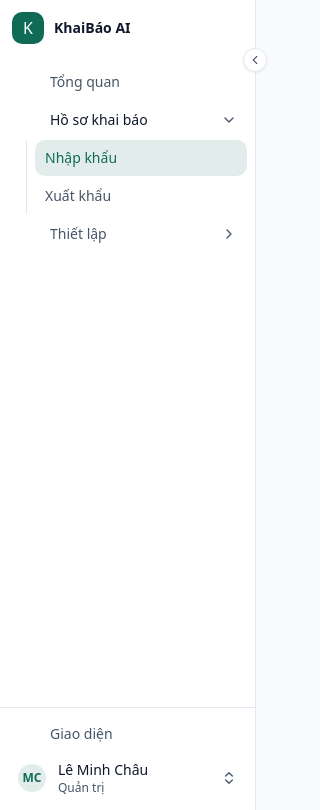
Test: Sidebar › thu gọn: nhãn chỉ còn cho trình đọc màn hình, có tooltip; nút mở rộng đổi nhãn
The image size is (320, 810).
Step 1. Click the button named "Thu gọn menu" → click(255, 60), box x1=243 y1=48 x2=267 y2=72
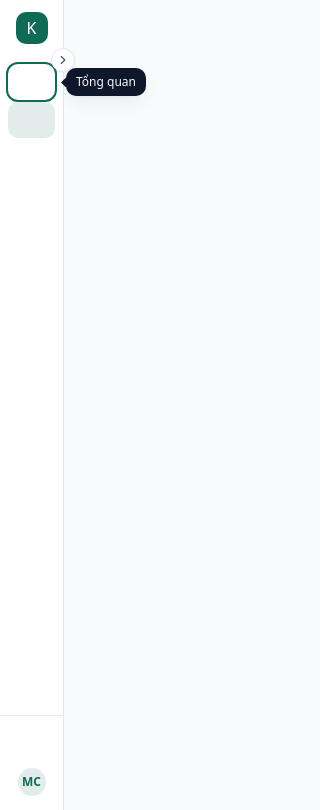
Expected: the tooltip reads "Tổng quan", x1=76 y1=73 x2=136 y2=90
Expected: the button named "Mở rộng menu" is collapsed, x1=51 y1=48 x2=75 y2=72
